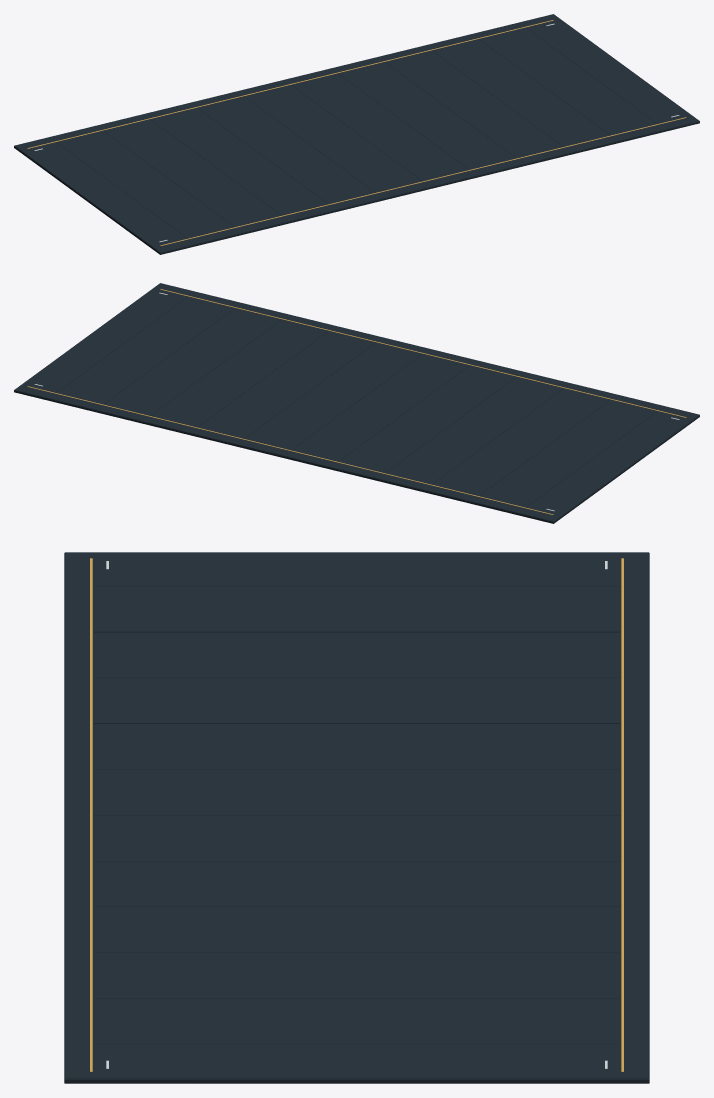
File: line-deck.glb
3 views of the same model, one above another, from view 1: azimuth 30°, elevation 25°; view 2: azimuth 150°, elevation 25°; view 3: azimuth 270°, elevation 25° (orthographic). The views are drawn at different scales.
Visible parts, largest first — view 1: line_deck_Epoxy_Floor, line_deck_Cast_Base, line_deck_Safety_Amber, line_deck_Expansion_Joint; view 2: line_deck_Epoxy_Floor, line_deck_Cast_Base, line_deck_Safety_Amber, line_deck_Expansion_Joint; view 3: line_deck_Epoxy_Floor, line_deck_Expansion_Joint, line_deck_Cast_Base, line_deck_Safety_Amber.
Boxes of the visible parts, box(x1,y1,x2,y2) form: line_deck_Epoxy_Floor: box(15, 14, 698, 252); line_deck_Cast_Base: box(14, 121, 699, 254); line_deck_Safety_Amber: box(27, 20, 686, 245); line_deck_Expansion_Joint: box(56, 28, 657, 238); line_deck_Epoxy_Floor: box(15, 283, 698, 521); line_deck_Cast_Base: box(14, 390, 699, 523); line_deck_Safety_Amber: box(27, 289, 686, 514); line_deck_Expansion_Joint: box(56, 297, 657, 507); line_deck_Epoxy_Floor: box(65, 552, 648, 1078); line_deck_Expansion_Joint: box(94, 586, 619, 1044); line_deck_Cast_Base: box(64, 552, 649, 1083); line_deck_Safety_Amber: box(90, 558, 623, 1071).
Bounding box in the file's own units: 23 × 0.1175 × 10.8.
